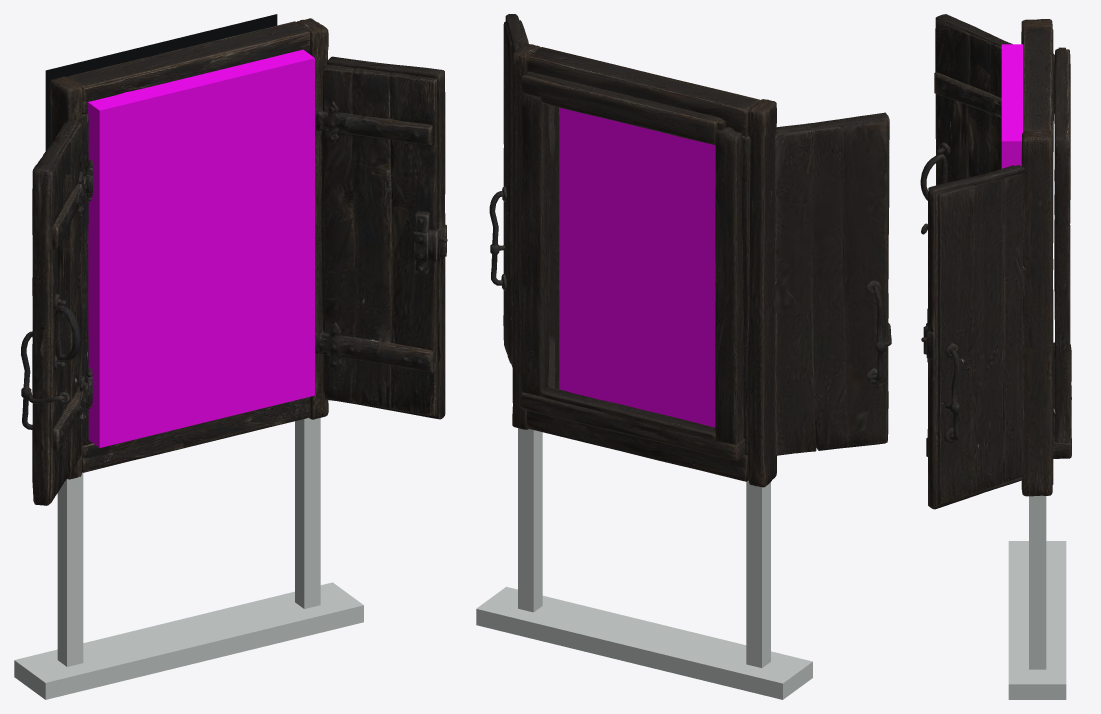
File: exit.glb
3 views of the same model, side by side, from view 1: azimuth 30°, elevation 25°; view 2: azimuth 150°, elevation 25°; view 3: azimuth 270°, elevation 25° (orthographic). The views are drawn at different scales.
Visible parts, largest first — view 1: window, curtain_proxy, stand, outside; view 2: window, curtain_proxy, stand; view 3: window, stand, curtain_proxy.
Boxes of the visible parts, left/top/right/bottom form: window: left=21, top=18, right=447, bottom=505; curtain_proxy: left=87, top=49, right=314, bottom=447; stand: left=14, top=417, right=363, bottom=699; outside: left=45, top=14, right=277, bottom=150; window: left=489, top=14, right=891, bottom=487; curtain_proxy: left=559, top=107, right=715, bottom=427; stand: left=476, top=428, right=812, bottom=699; window: left=920, top=14, right=1071, bottom=509; stand: left=1008, top=495, right=1066, bottom=699; curtain_proxy: left=1001, top=44, right=1023, bottom=418.
Bounding box in the file's own units: 1.52 × 2.11 × 0.5754.
5 materials, 1 textured.
